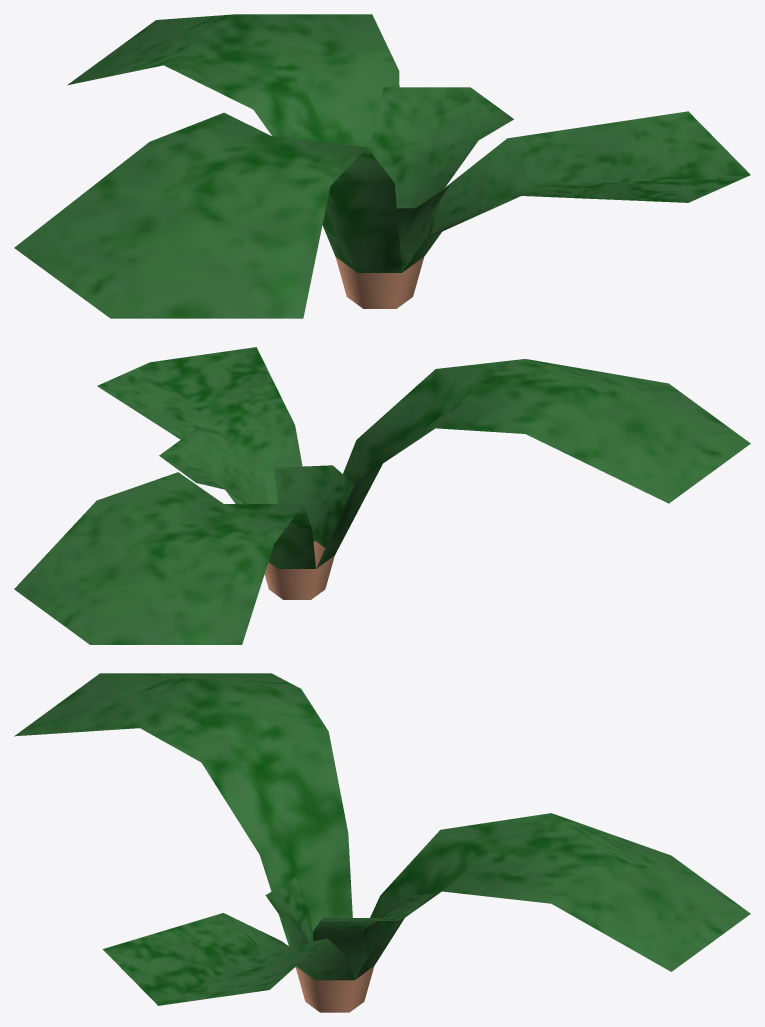
The model's file is plant_floppy.glb.
The picture shows the model from 3 angles, top to bottom: view 1: azimuth 30°, elevation 25°; view 2: azimuth 150°, elevation 25°; view 3: azimuth 270°, elevation 25°; orthographic projection. The views are drawn at different scales.
Parts seen in each view (by area): view 1: leaf_m, 1_base; view 2: leaf_m, 1_base; view 3: leaf_m, 1_base.
Part boxes in pixels (x1,y1,x2,y2): leaf_m: (14,14,750,318); 1_base: (335,257,423,308); leaf_m: (14,347,750,644); 1_base: (264,541,334,599); leaf_m: (14,673,750,1005); 1_base: (295,966,374,1012).
Size of the model in its own units: 4.79 by 1.64 by 5.1.
Materials: 2 (1 with a texture image).
